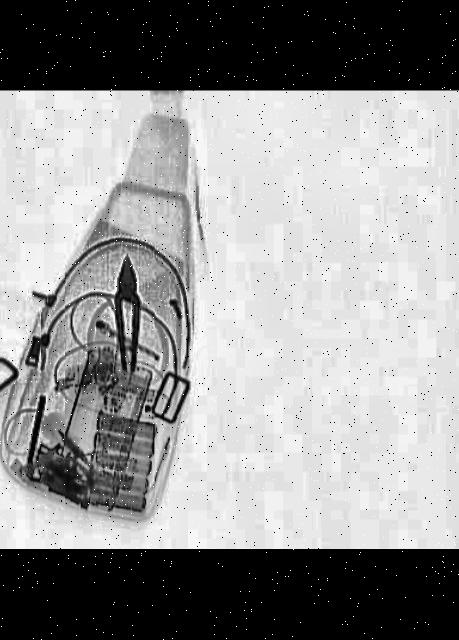Scissors: (88, 255, 168, 382)
